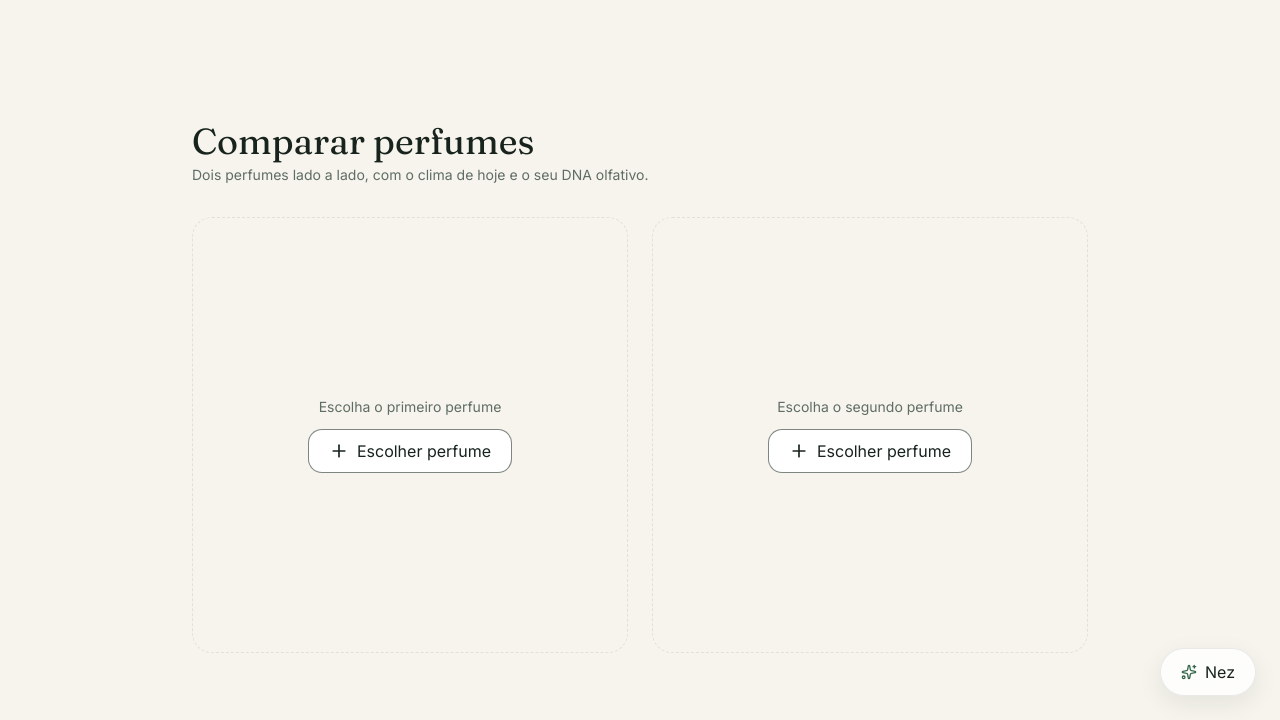
ComparePage (Fase 18B) › escolher e trocar › busca sem resultado diz que não achou
Click the button "Escolher perfume" below "primeiro": point(410, 451) 308,429 -> 512,473
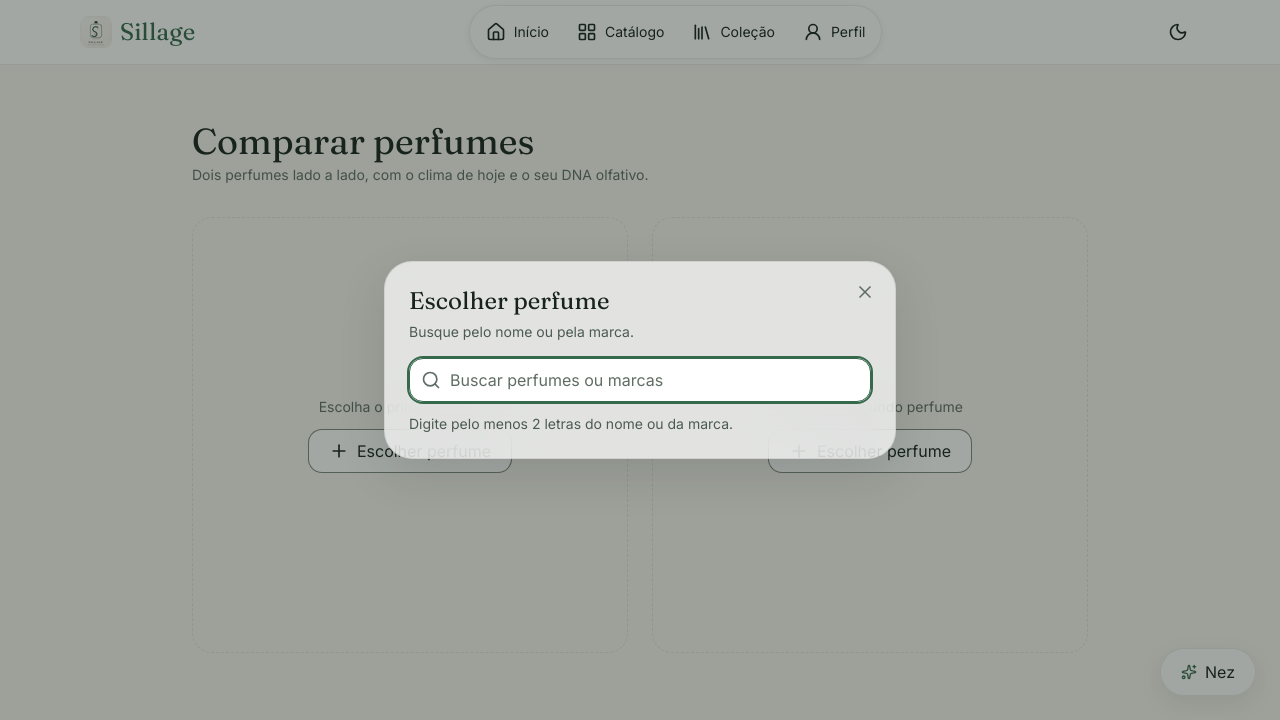
In the search field: point(640, 380) 409,358 -> 871,402, type "zzzz"
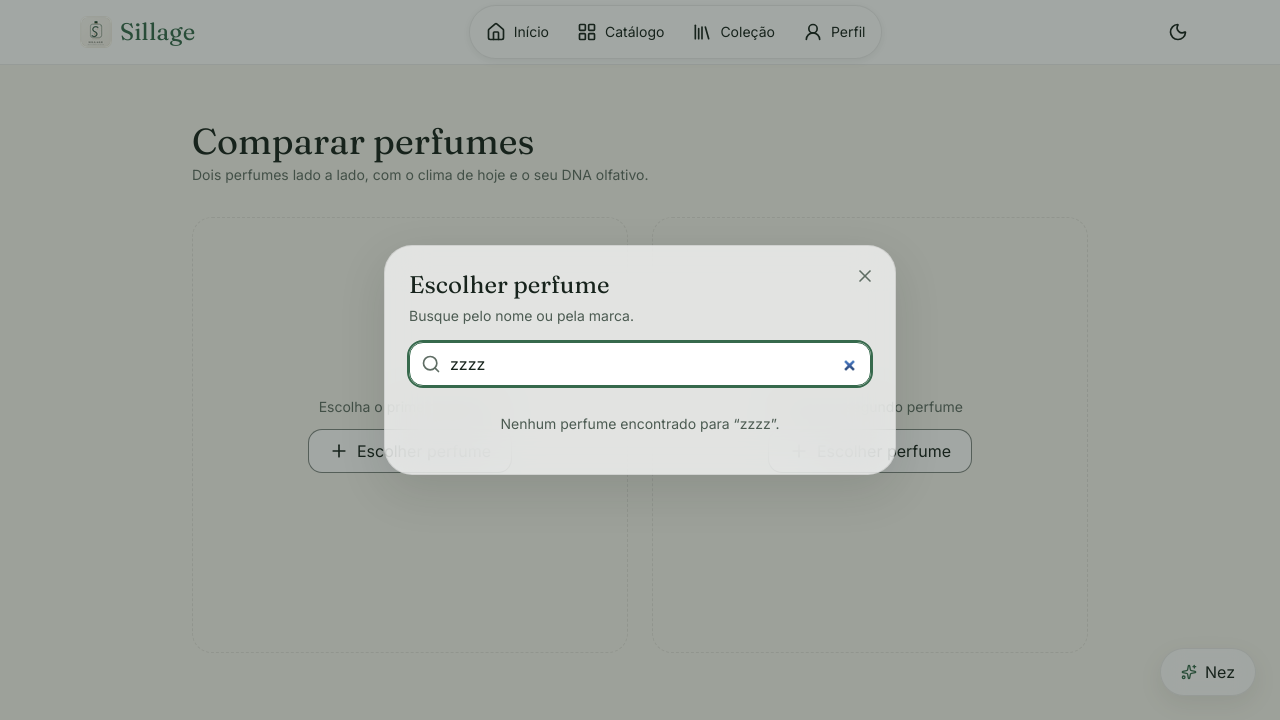
Result: the text "Nenhum perfume encontrado para “zzzz”." is shown at 500,415 -> 780,432
